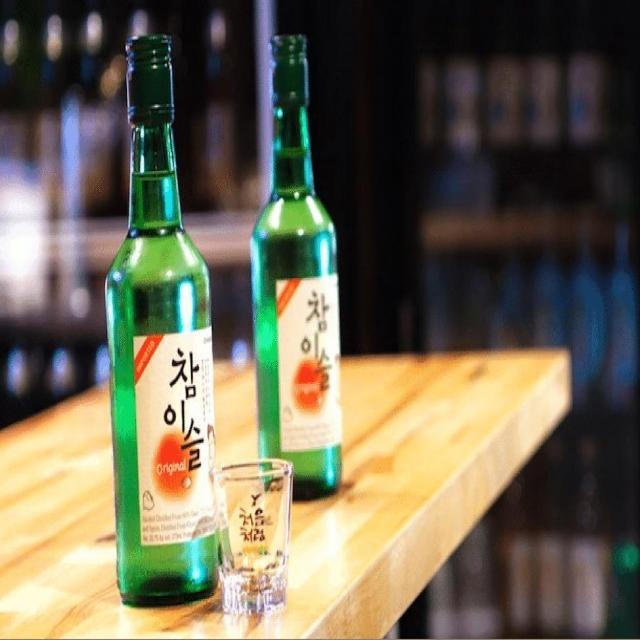soju-bottle: (107, 31, 220, 608), (250, 41, 342, 505)
